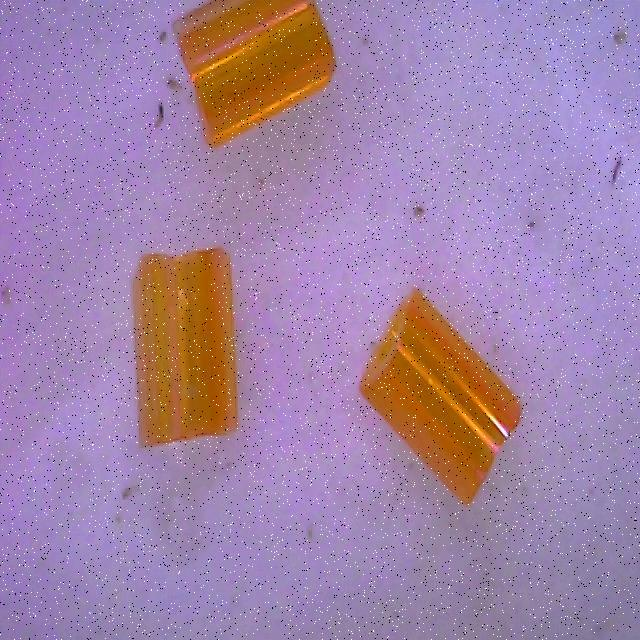fragments: (334, 289, 547, 508), (160, 0, 349, 148), (131, 248, 239, 445)
